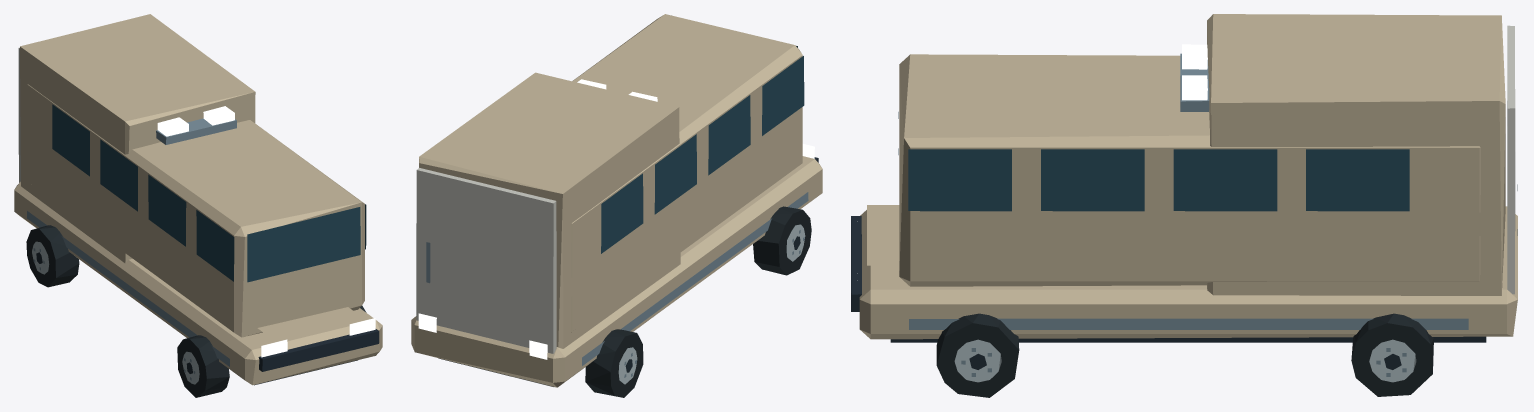
File: road-ambulance.lod2.glb
3 views of the same model, side by side, from view 1: azimuth 30°, elevation 25°; view 2: azimuth 150°, elevation 25°; view 3: azimuth 270°, elevation 25° (orthographic). The views are drawn at different scales.
Parts seen in each view (by area): view 1: road-ambulance__body, road-ambulance__wheel_steer_0_l, road-ambulance__wheel_steer_1_l, road-ambulance__cargo_door; view 2: road-ambulance__body, road-ambulance__cargo_door, road-ambulance__wheel_steer_0_l, road-ambulance__wheel_steer_1_l; view 3: road-ambulance__body, road-ambulance__wheel_steer_0_r, road-ambulance__wheel_steer_1_r, road-ambulance__cargo_door.
Part boxes in pixels (box(x1,y1,x2,y2)): road-ambulance__body: box(14, 14, 382, 385); road-ambulance__wheel_steer_0_l: box(177, 335, 229, 397); road-ambulance__wheel_steer_1_l: box(26, 225, 79, 287); road-ambulance__cargo_door: box(18, 47, 20, 182); road-ambulance__body: box(411, 14, 822, 387); road-ambulance__cargo_door: box(416, 168, 556, 353); road-ambulance__wheel_steer_0_l: box(753, 206, 811, 275); road-ambulance__wheel_steer_1_l: box(585, 329, 643, 397); road-ambulance__body: box(851, 14, 1519, 342); road-ambulance__wheel_steer_0_r: box(936, 313, 1019, 397); road-ambulance__wheel_steer_1_r: box(1351, 313, 1433, 396); road-ambulance__cargo_door: box(1507, 25, 1517, 294).
Bounding box in the file's own units: 2.24 × 2.58 × 5.49.
